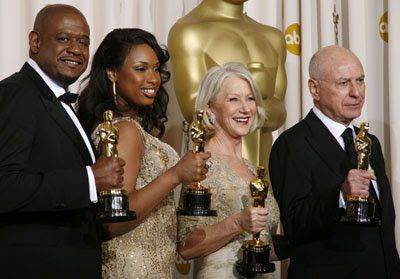hand: (236, 205, 268, 230)
